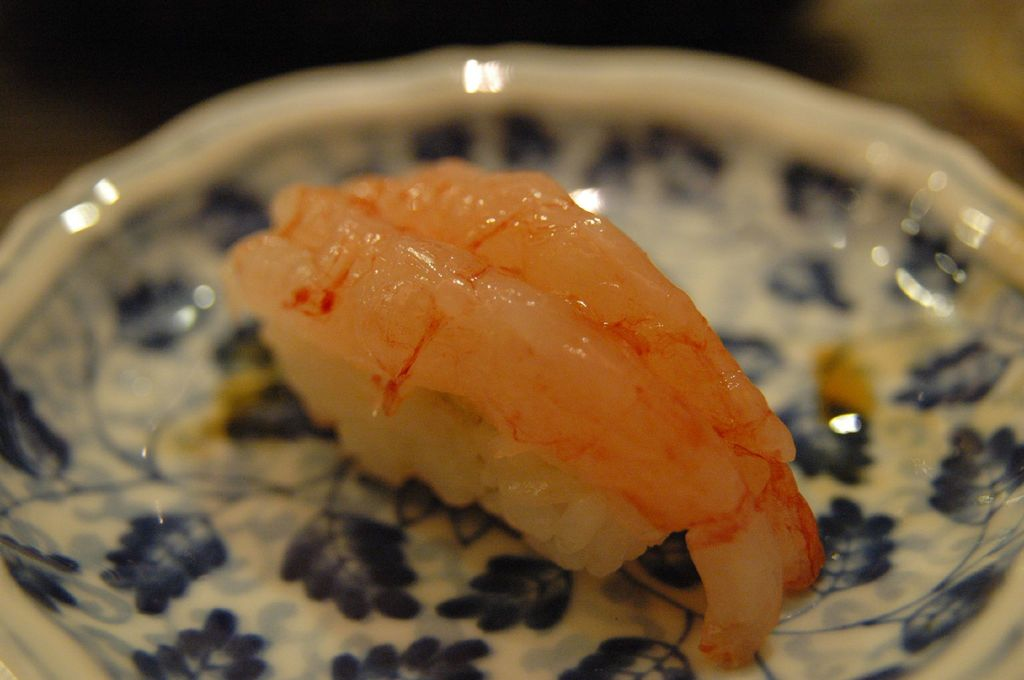sushi: (172, 154, 787, 657)
